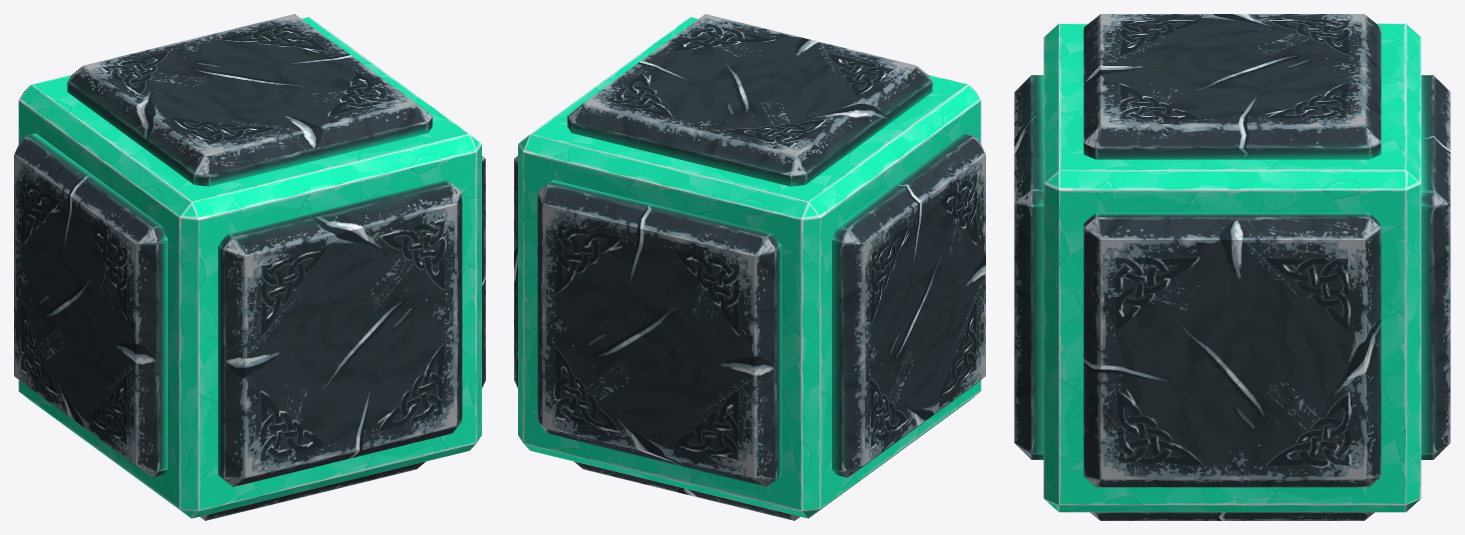
The model's file is step_001.glb.
The picture shows the model from 3 angles, left to right: view 1: azimuth 30°, elevation 25°; view 2: azimuth 150°, elevation 25°; view 3: azimuth 270°, elevation 25°; orthographic projection. The views are drawn at different scales.
Visible parts, largest first — view 1: StartingBlock_71495246-291b-49d8-9ca8-68c87e015d7b; view 2: StartingBlock_71495246-291b-49d8-9ca8-68c87e015d7b; view 3: StartingBlock_71495246-291b-49d8-9ca8-68c87e015d7b.
Boxes of the visible parts, x1,y1,x2,y2 form: StartingBlock_71495246-291b-49d8-9ca8-68c87e015d7b: [14, 14, 485, 520]; StartingBlock_71495246-291b-49d8-9ca8-68c87e015d7b: [514, 14, 985, 520]; StartingBlock_71495246-291b-49d8-9ca8-68c87e015d7b: [1014, 14, 1450, 520].
Size of the model in its own units: 1.13 by 1.13 by 1.13.
Materials: 1 (1 with a texture image).
